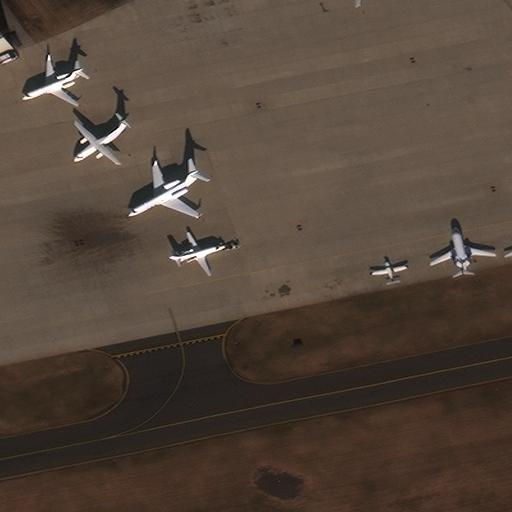Medium Civil Transport: (128, 161, 197, 217), (22, 54, 83, 106), (429, 228, 496, 275), (168, 232, 224, 275), (73, 119, 124, 165)
Small Civil Transport: (371, 262, 406, 283)
